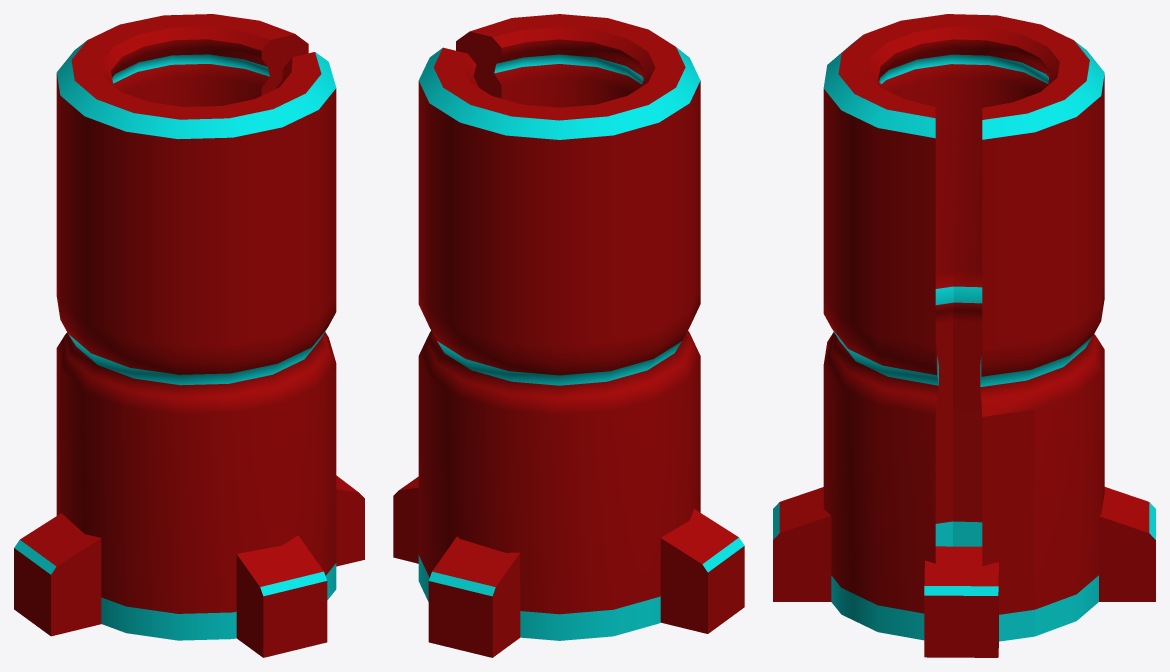
File: GJ_Envrio_Kit_Buildings_HL_23-07-2019_v7.fbx
The picture shows the model from 3 angles, left to right: view 1: azimuth 30°, elevation 25°; view 2: azimuth 150°, elevation 25°; view 3: azimuth 270°, elevation 25°; orthographic projection.
Visible parts, largest first — view 1: Building_2_Cylinder_Tower1; view 2: Building_2_Cylinder_Tower1; view 3: Building_2_Cylinder_Tower1.
Part boxes in pixels (x1,y1,x2,y2): Building_2_Cylinder_Tower1: (14, 14, 364, 657); Building_2_Cylinder_Tower1: (393, 14, 744, 657); Building_2_Cylinder_Tower1: (773, 14, 1155, 657).
Size of the model in its own units: 950 by 1483 by 994.
